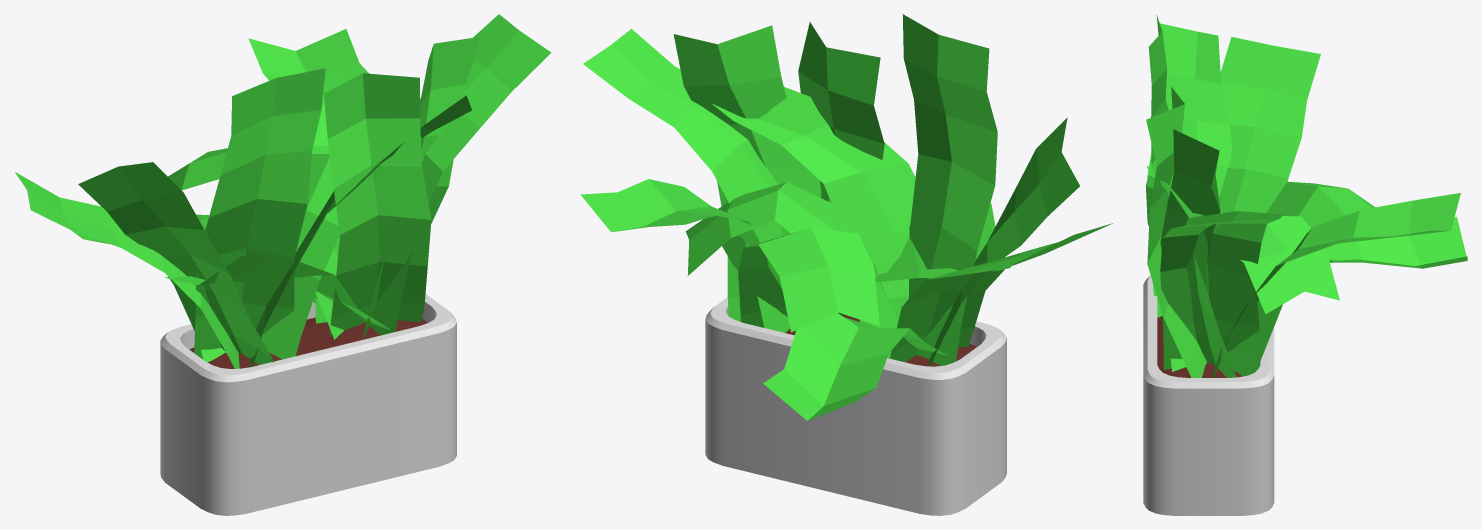
Rendered from Plant Long Wall.fbx.
3 renders of one model, left to right at view 1: azimuth 30°, elevation 25°; view 2: azimuth 150°, elevation 25°; view 3: azimuth 270°, elevation 25°, orthographic. The views are drawn at different scales.
Parts seen in each view (by area): view 1: Plant Long Wall; view 2: Plant Long Wall; view 3: Plant Long Wall.
Boxes of the visible parts, box(x1,y1,x2,y2) form: Plant Long Wall: box(15, 14, 551, 515); Plant Long Wall: box(580, 14, 1112, 515); Plant Long Wall: box(1143, 15, 1467, 515).
Bounding box in the file's own units: 3.77 × 3.06 × 2.23.
